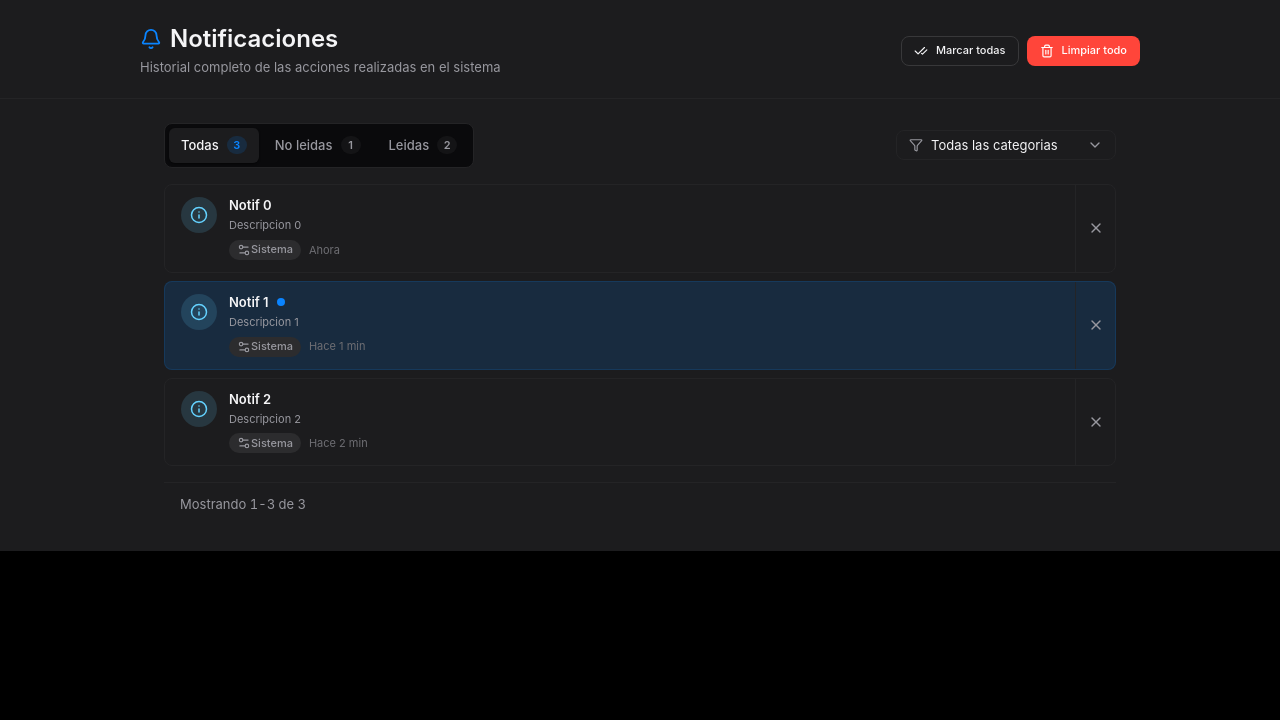
Notifications page › filters by unread tab
Click the tab "No leidas 1" at [318, 145], box 263,128 -> 373,163
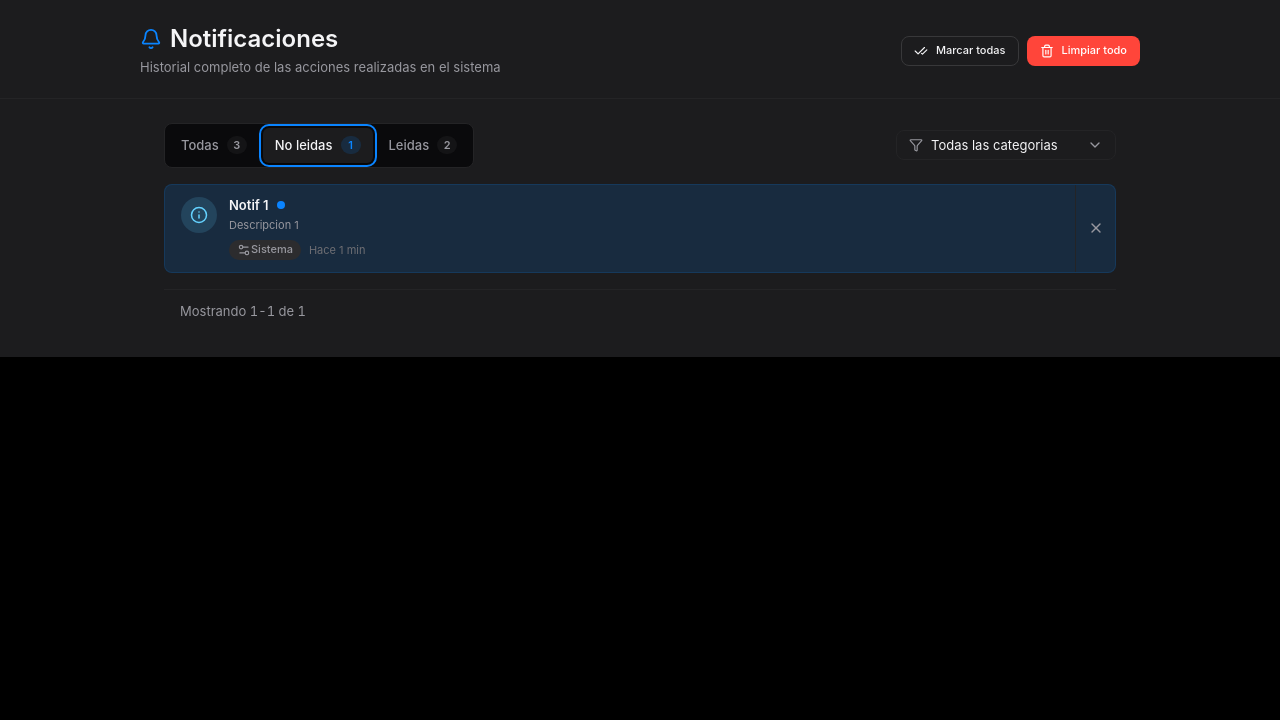
Check: the text "Notif 1" is shown, box 229,197 -> 269,213
Check: the button "Notif 0" is gone
